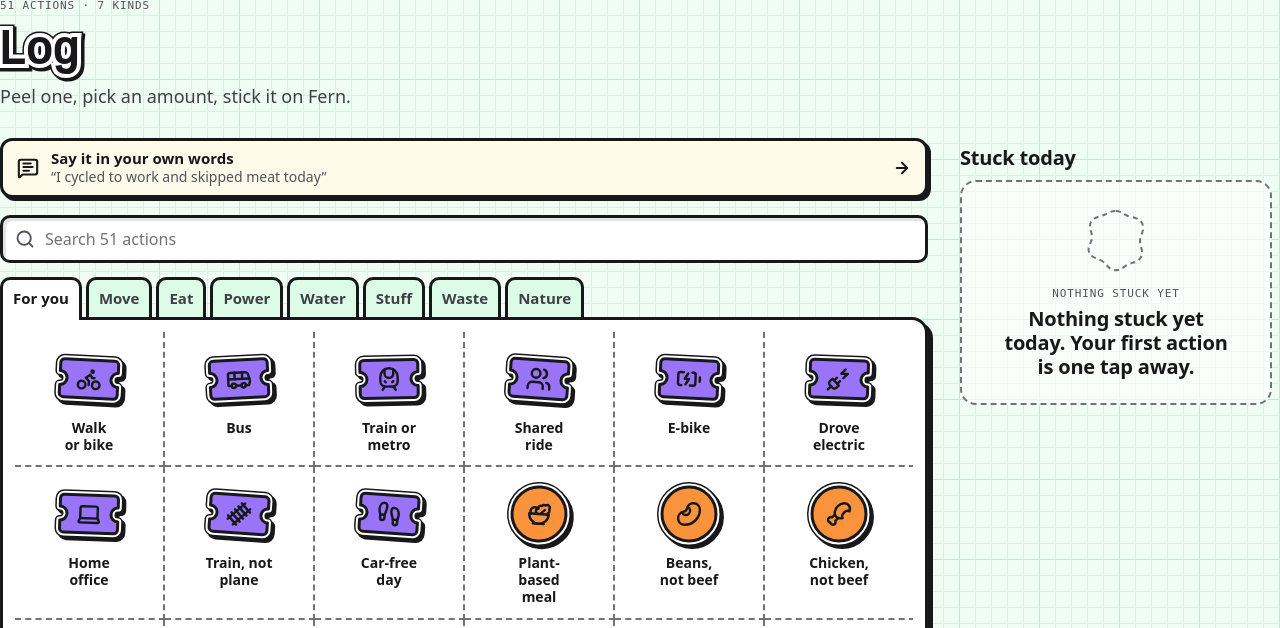
caps and overlap groups › shows the group hint and the rough-estimate label where they apply
Click the tab "Eat": (181, 297) [156,277,206,317]
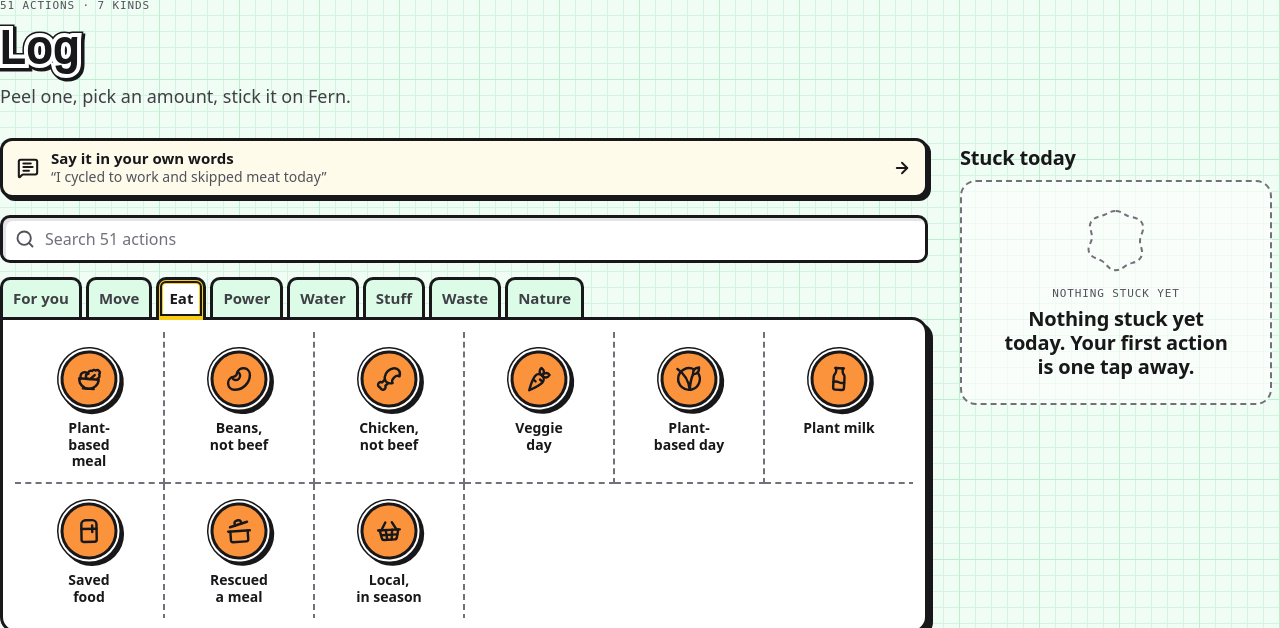
Click the button with aria-label "Plant-based meal:": (89, 408) [52,346,126,470]
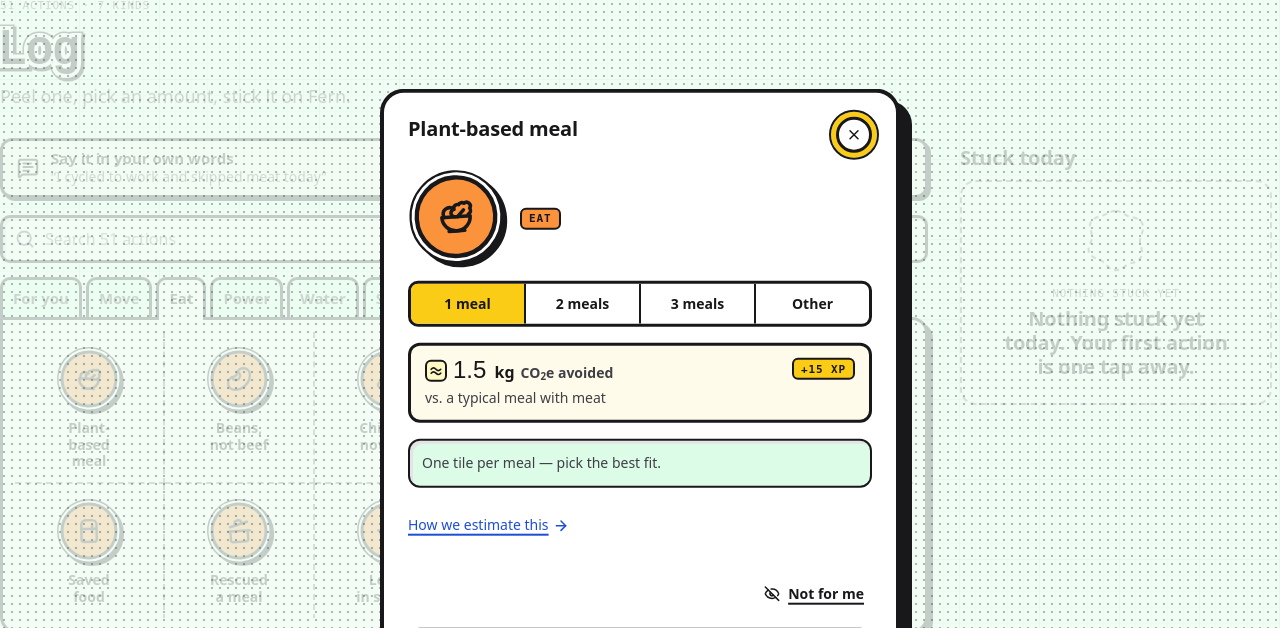
Result: the list item "One tile per meal — pick the best fit." is shown at [422,453,661,472]
Press Escape
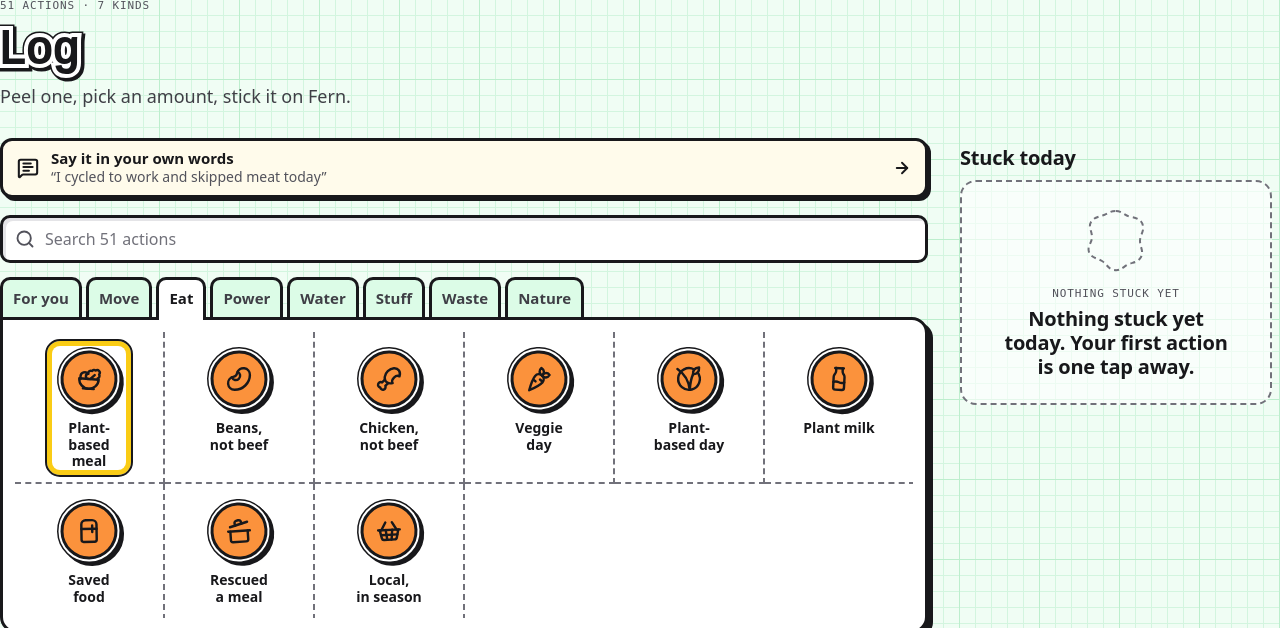
Click the tab "Stuff": (394, 297) [363,277,425,317]
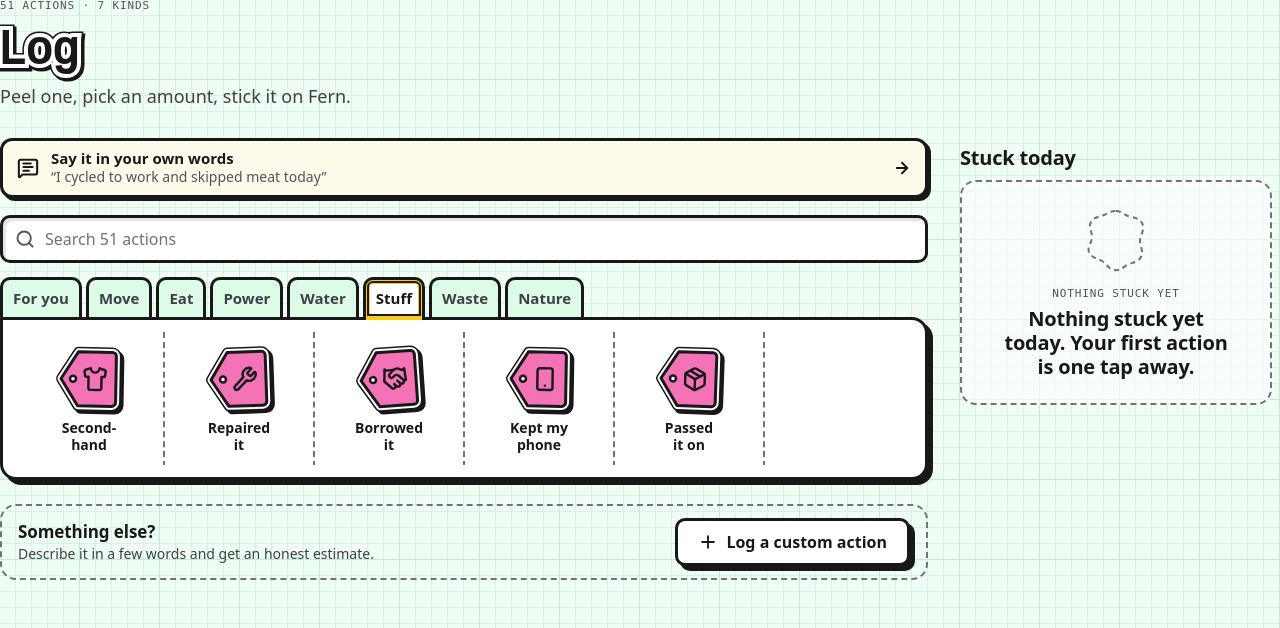
Click the button with aria-label "Borrowed it:": (389, 400) [352,346,426,454]
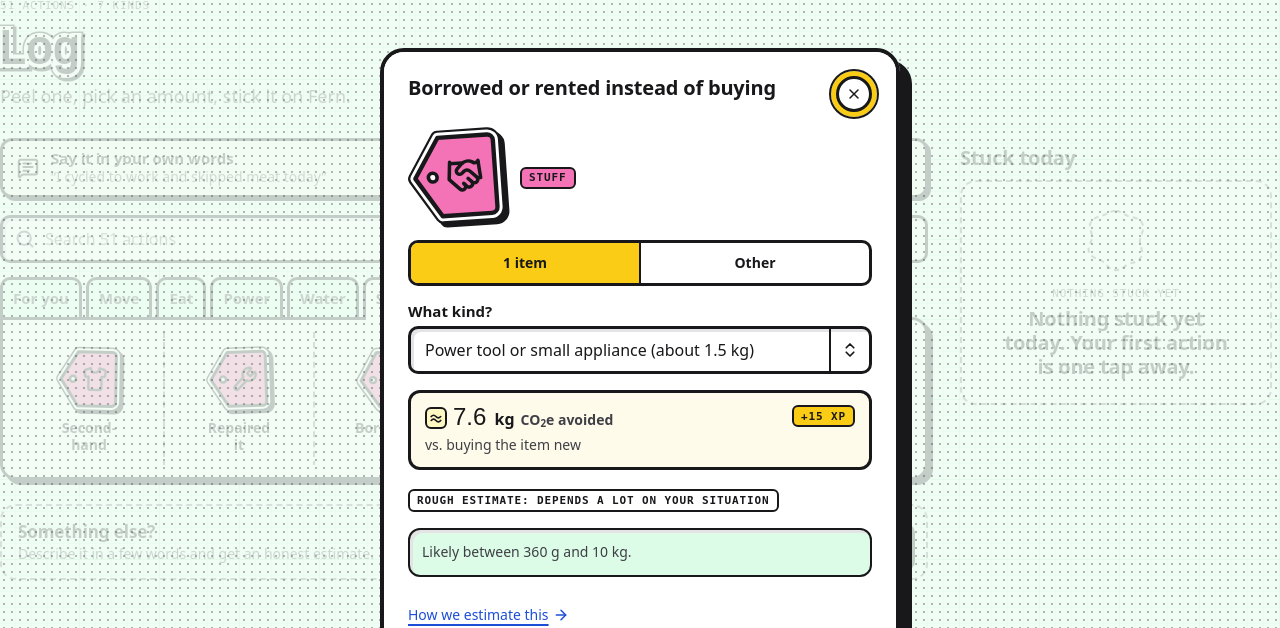
Result: the text "Rough estimate: depends a lot on your situation" is shown at [408,489,779,512]
Result: the list item "Likely between 360 g and 10 kg." is shown at [422,542,632,561]
